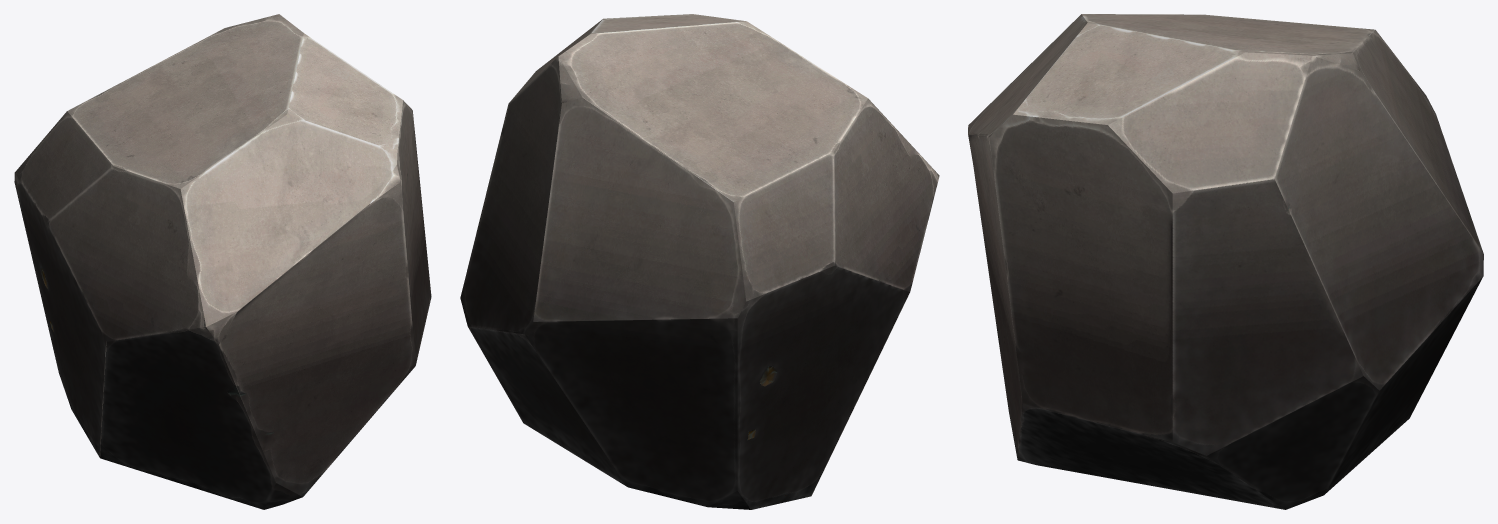
Rendered from S_rocks_02.glb.
3 renders of one model, left to right at view 1: azimuth 30°, elevation 25°; view 2: azimuth 150°, elevation 25°; view 3: azimuth 270°, elevation 25°, orthographic. The views are drawn at different scales.
Visible parts, largest first — view 1: S_Rock_02; view 2: S_Rock_02; view 3: S_Rock_02.
Boxes of the visible parts, x1,y1,x2,y2 form: S_Rock_02: [14, 14, 431, 509]; S_Rock_02: [460, 14, 939, 509]; S_Rock_02: [968, 14, 1483, 509].
Size of the model in its own units: 1.11 by 1.21 by 1.16.
Materials: 1 (1 with a texture image).
